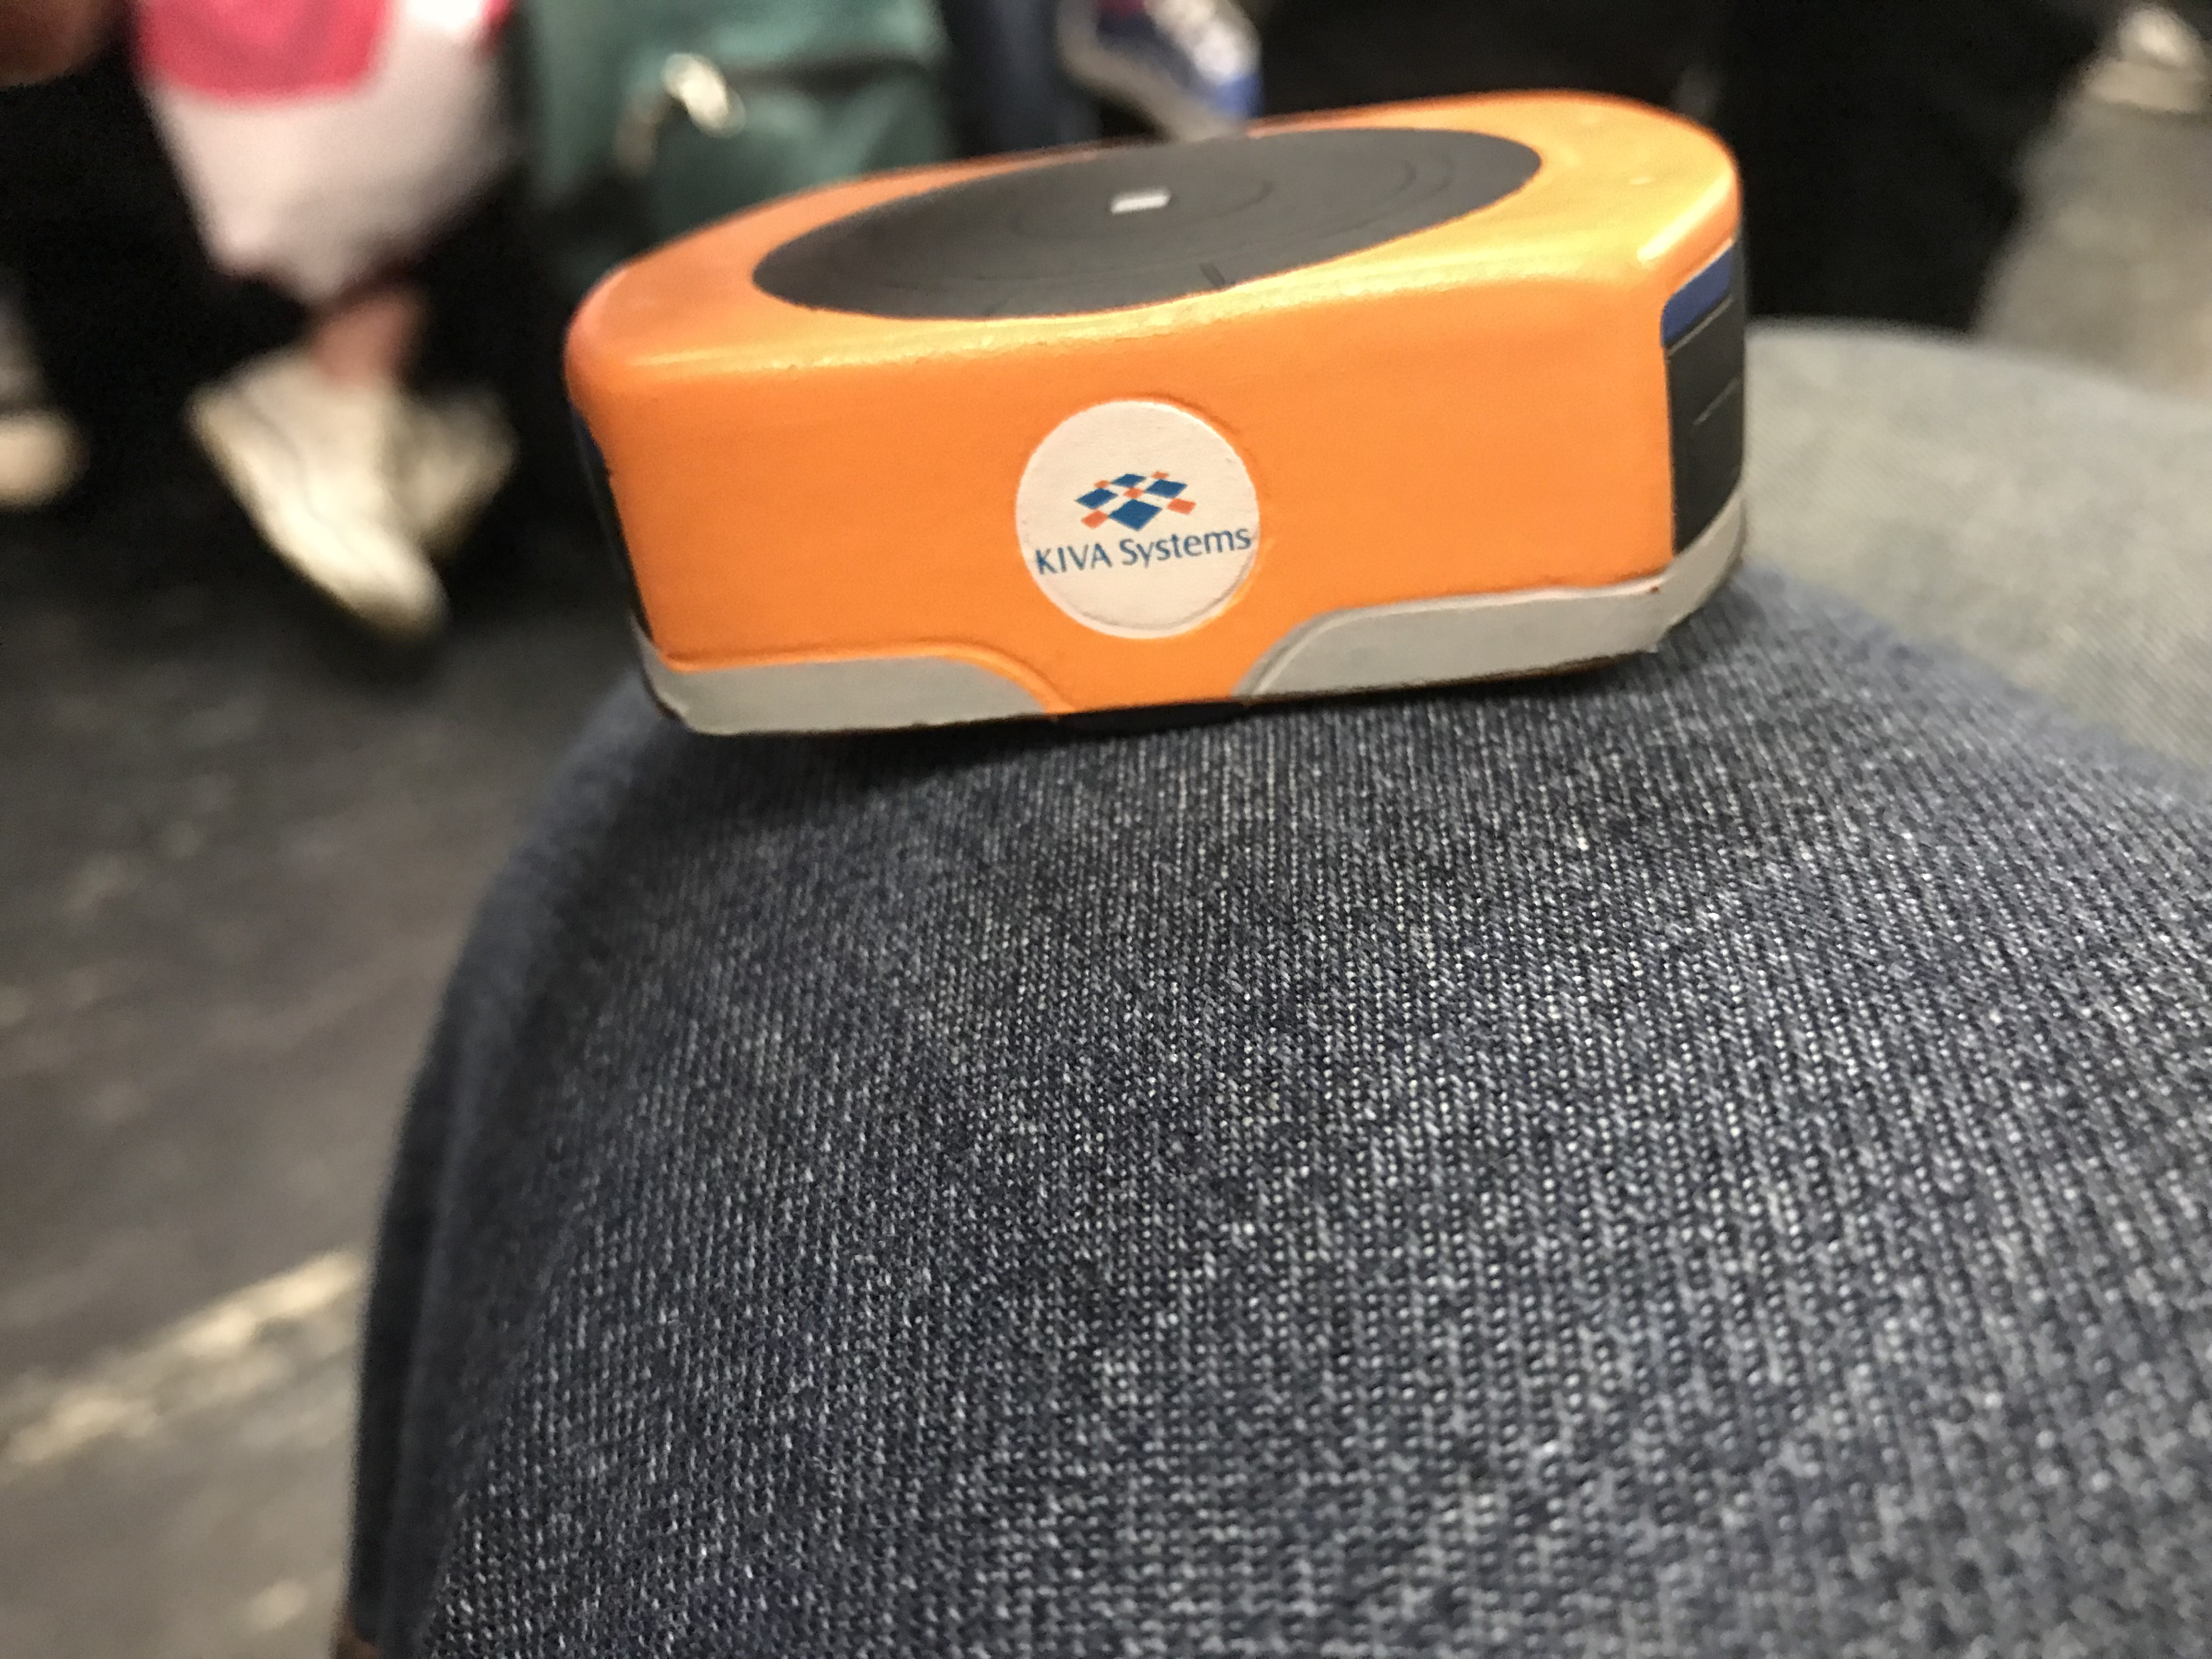amazon_bot: (529, 58, 1761, 784)
